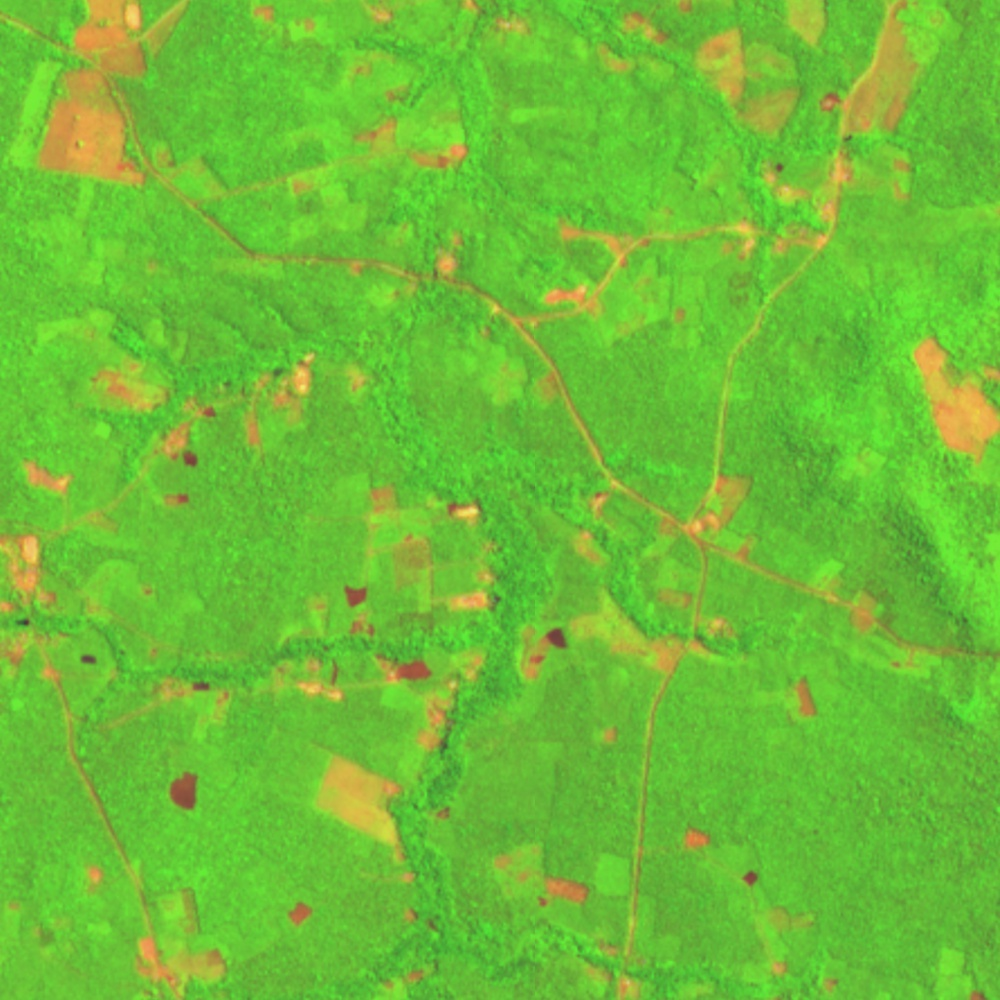legal: (34, 1, 231, 207), (143, 348, 373, 510), (599, 1, 844, 144), (681, 823, 837, 1000), (508, 581, 755, 689), (721, 146, 926, 260), (319, 45, 484, 181), (363, 482, 502, 632), (837, 1, 963, 134), (1, 456, 77, 675), (35, 306, 176, 418), (309, 754, 423, 885), (130, 884, 235, 1000), (909, 333, 1000, 464), (274, 583, 380, 690), (496, 841, 637, 919), (647, 468, 756, 562), (548, 226, 654, 317), (425, 231, 509, 331), (405, 654, 491, 750), (373, 904, 454, 1000), (356, 1, 536, 38), (801, 557, 885, 636), (575, 481, 621, 567), (365, 645, 436, 698), (343, 255, 405, 301), (252, 2, 319, 33), (164, 768, 203, 817), (792, 670, 821, 724), (531, 362, 567, 399), (285, 900, 316, 928), (85, 864, 104, 895)
